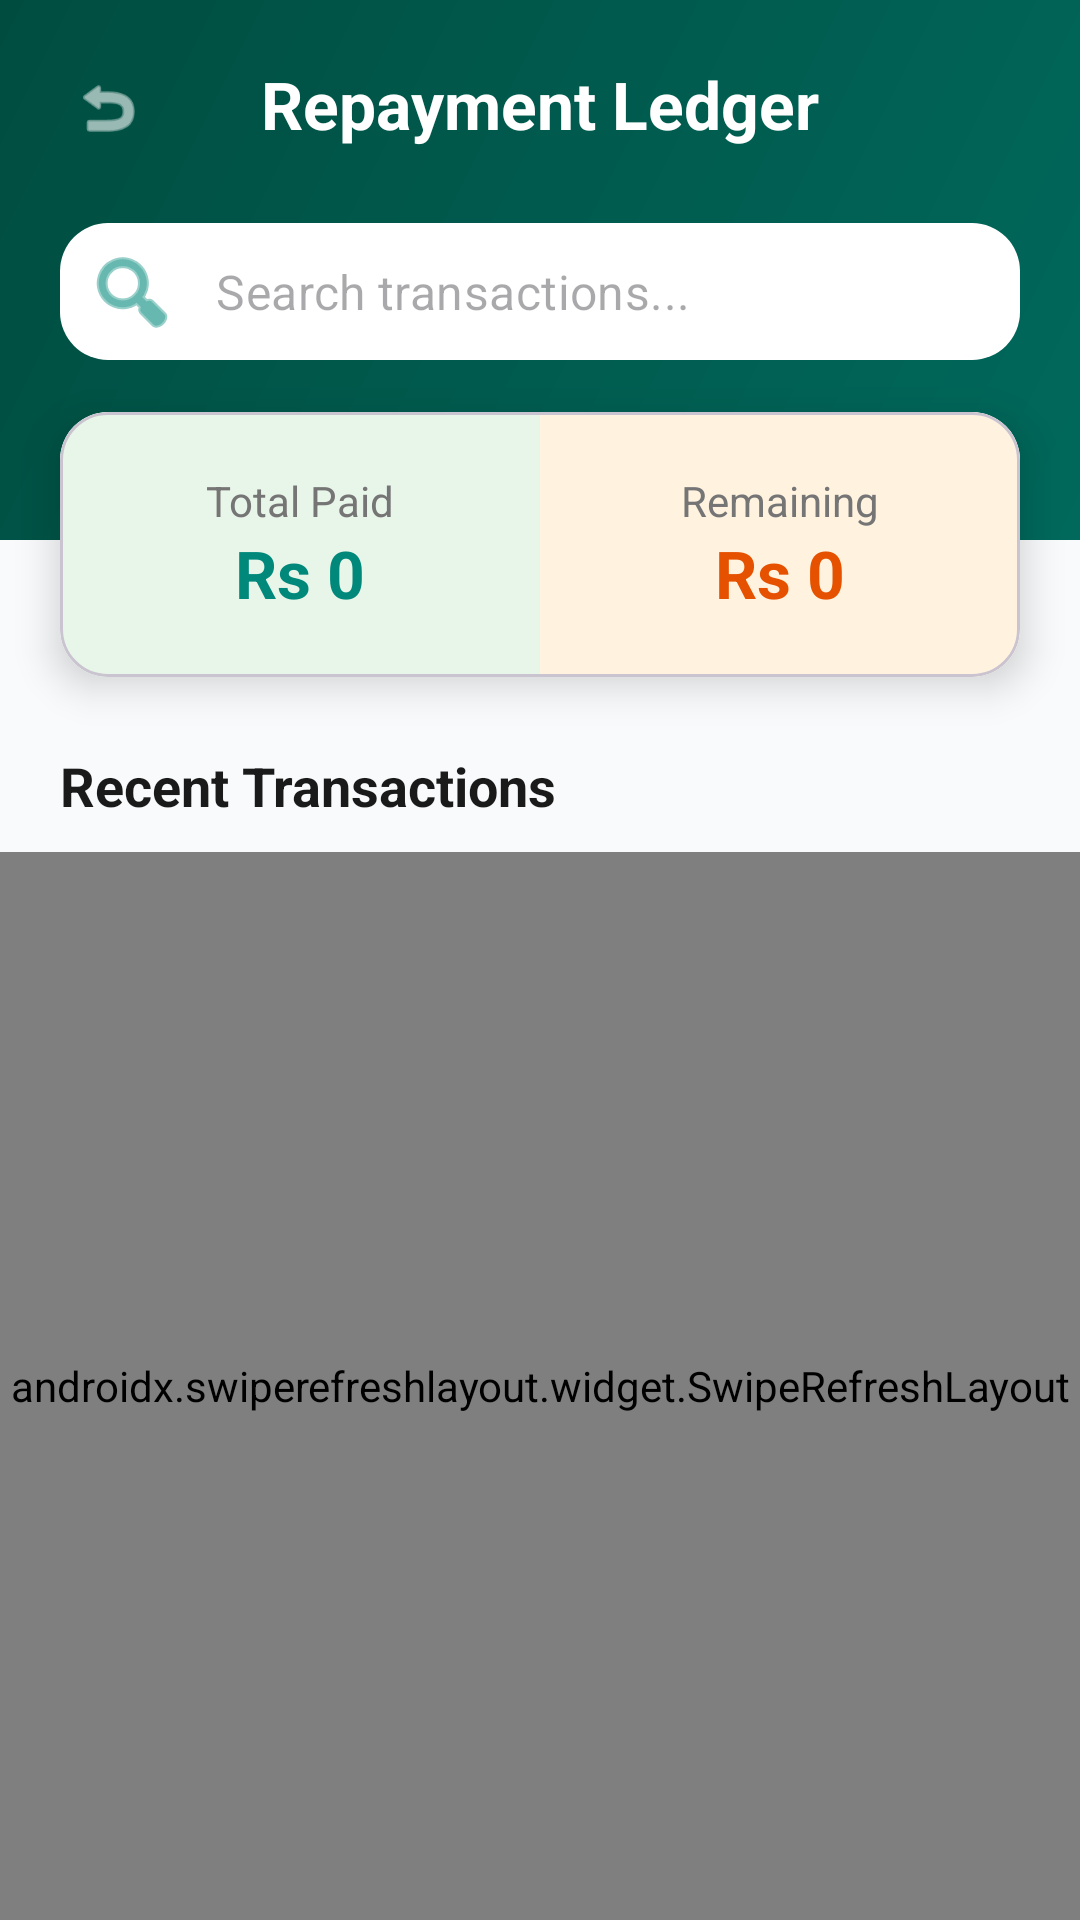

Named icons in this screenshot (1080px×1920px) and their centers, [x,y]:
revert: [109,108]
